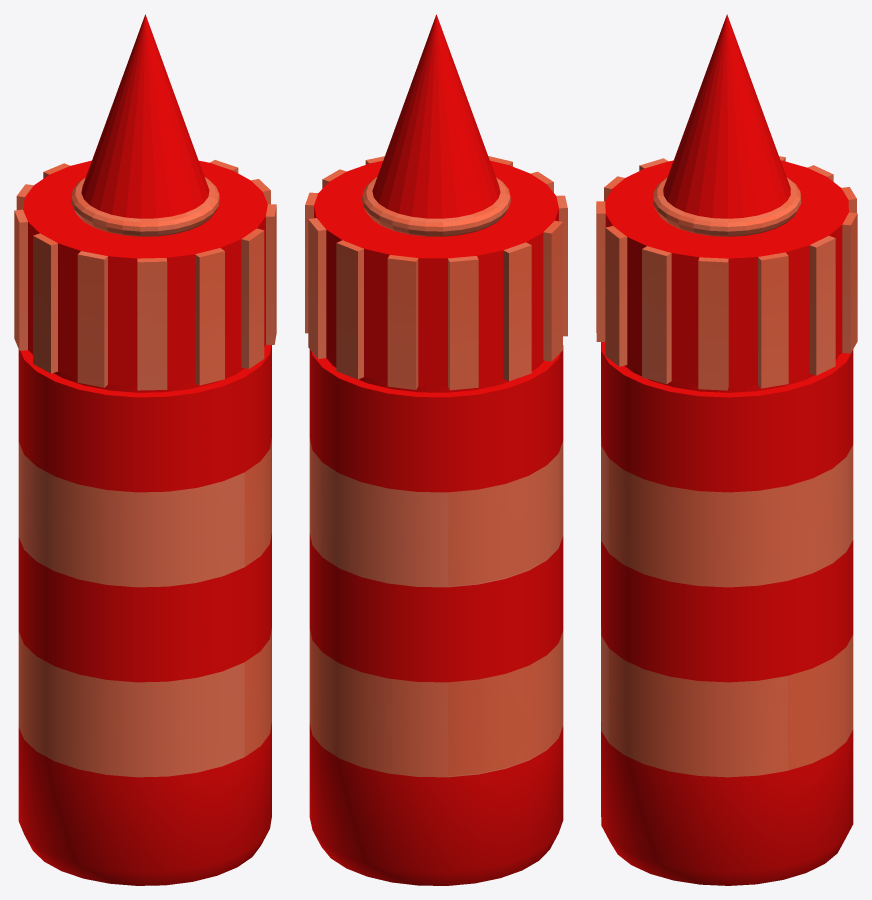
File: Red Sauce Bottle.fbx
The picture shows the model from 3 angles, left to right: view 1: azimuth 30°, elevation 25°; view 2: azimuth 150°, elevation 25°; view 3: azimuth 270°, elevation 25°; orthographic projection.
Visible parts, largest first — view 1: Lower stripe 2, Lower stripe 1, Upper bottle, Stripes upper Bottle, Upper part bottle, Ummer part 2 bottle; view 2: Lower stripe 2, Lower stripe 1, Upper bottle, Stripes upper Bottle, Upper part bottle, Ummer part 2 bottle; view 3: Lower stripe 2, Lower stripe 1, Upper bottle, Stripes upper Bottle, Upper part bottle, Ummer part 2 bottle.
Boxes of the visible parts, x1=… form: Lower stripe 2: x1=18, y1=345, x2=271, y2=885; Lower stripe 1: x1=18, y1=438, x2=271, y2=777; Upper bottle: x1=23, y1=160, x2=267, y2=392; Stripes upper Bottle: x1=14, y1=160, x2=276, y2=390; Upper part bottle: x1=81, y1=14, x2=209, y2=218; Ummer part 2 bottle: x1=71, y1=177, x2=219, y2=236; Lower stripe 2: x1=309, y1=345, x2=563, y2=885; Lower stripe 1: x1=309, y1=438, x2=563, y2=777; Upper bottle: x1=314, y1=160, x2=558, y2=392; Stripes upper Bottle: x1=305, y1=156, x2=567, y2=390; Upper part bottle: x1=372, y1=14, x2=500, y2=218; Ummer part 2 bottle: x1=362, y1=177, x2=510, y2=236; Lower stripe 2: x1=601, y1=342, x2=853, y2=885; Lower stripe 1: x1=601, y1=437, x2=853, y2=777; Upper bottle: x1=605, y1=160, x2=848, y2=392; Stripes upper Bottle: x1=596, y1=156, x2=857, y2=390; Upper part bottle: x1=663, y1=14, x2=790, y2=218; Ummer part 2 bottle: x1=653, y1=177, x2=801, y2=236.
Size of the model in its own units: 501 by 1729 by 498.
Materials: 1 (1 with a texture image).
